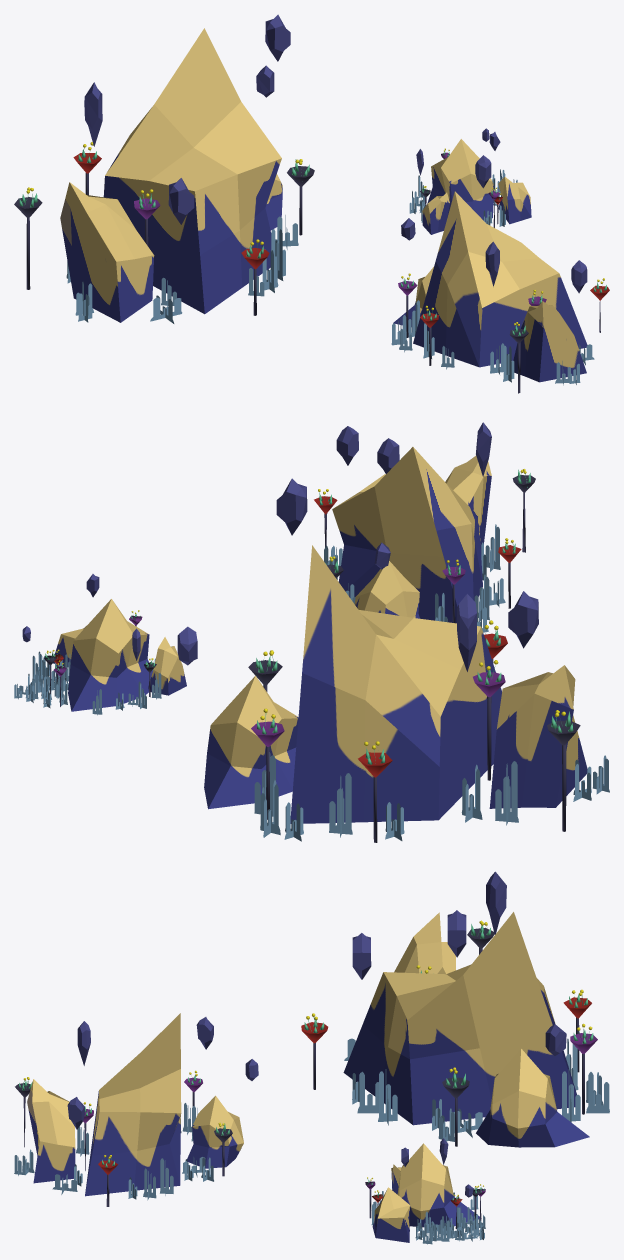
File: grass_diamond.glb
The picture shows the model from 3 angles, top to bottom: view 1: azimuth 30°, elevation 25°; view 2: azimuth 150°, elevation 25°; view 3: azimuth 270°, elevation 25°; orthographic projection. The views are drawn at different scales.
Parts seen in each view (by area): view 1: Cube.008; view 2: Cube.008; view 3: Cube.008.
Part boxes in pixels (box(x1,y1,x2,y2)): Cube.008: box(14, 14, 609, 393); Cube.008: box(14, 422, 609, 842); Cube.008: box(14, 871, 609, 1244).
Bounding box in the file's own units: 21.04 × 9.71 × 22.92.
Materials: 9 (1 with a texture image).
